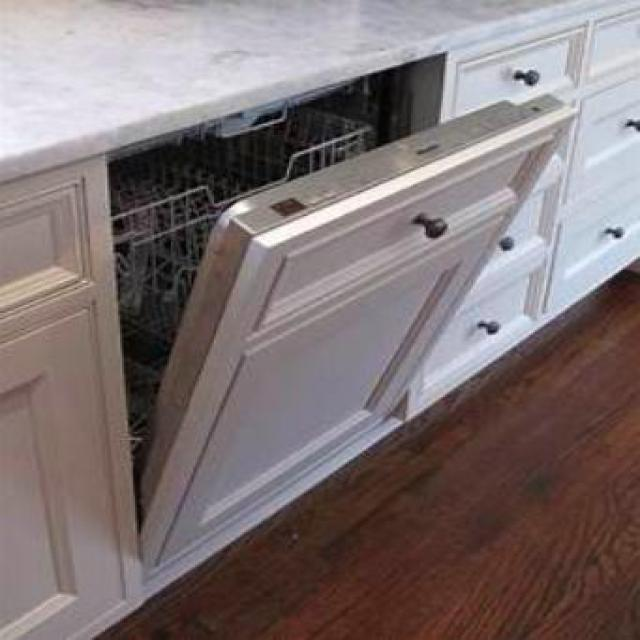dishwasher: (103, 51, 574, 578)
